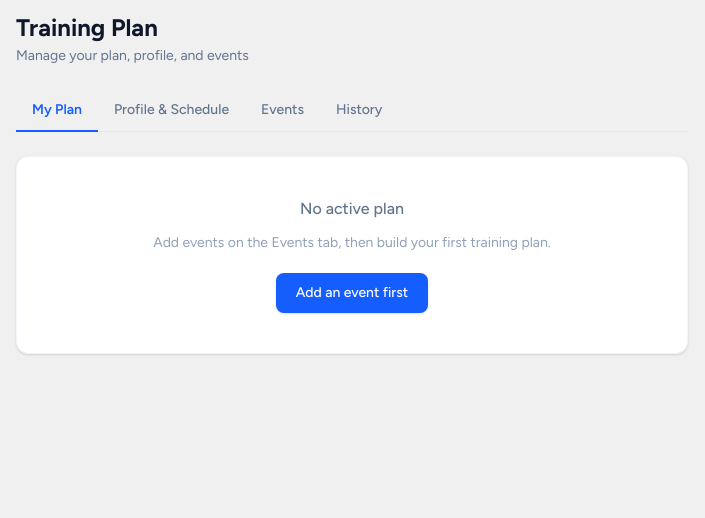
Test case: PlanPage — events sync › shows an error message when sync fails
Click the button "Events": point(283, 111) [245, 90, 320, 132]
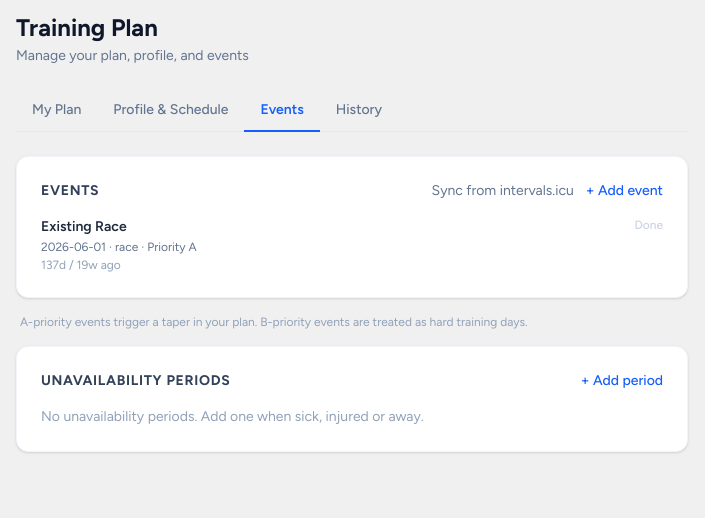
Click the button "Sync from intervals.icu": point(503, 191) [432, 181, 574, 201]
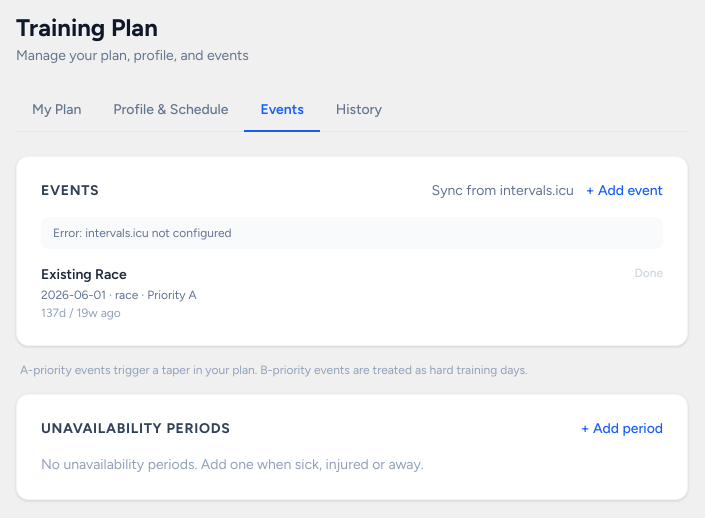
Now the text "Error: intervals.icu not configured" is shown, box [41, 217, 663, 249]
